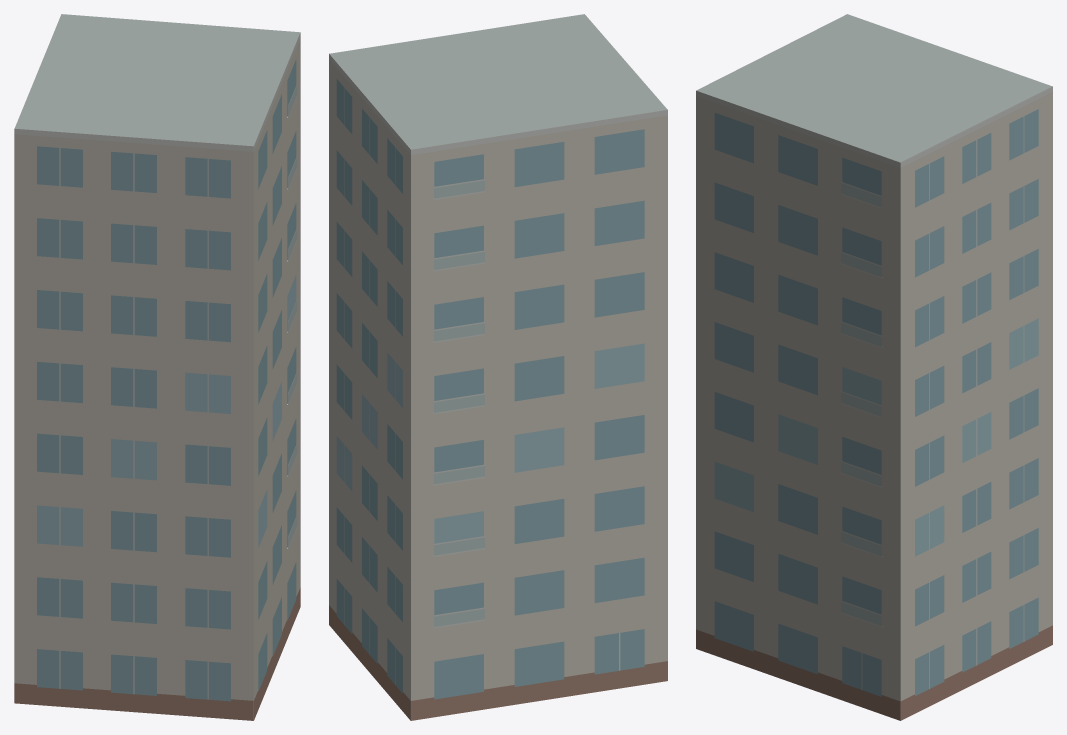
Rendered from survey-upis-32655975.glb.
3 renders of one model, left to right at view 1: azimuth 30°, elevation 25°; view 2: azimuth 150°, elevation 25°; view 3: azimuth 270°, elevation 25°, orthographic. The views are drawn at different scales.
Parts seen in each view (by area): view 1: survey-upis-32655975.tmp; view 2: survey-upis-32655975.tmp; view 3: survey-upis-32655975.tmp.
Part boxes in pixels (box(x1,y1,x2,y2)): survey-upis-32655975.tmp: box(14, 14, 300, 720); survey-upis-32655975.tmp: box(329, 14, 667, 720); survey-upis-32655975.tmp: box(696, 14, 1052, 720).
Size of the model in its own units: 14.56 by 25.5 by 14.78.
